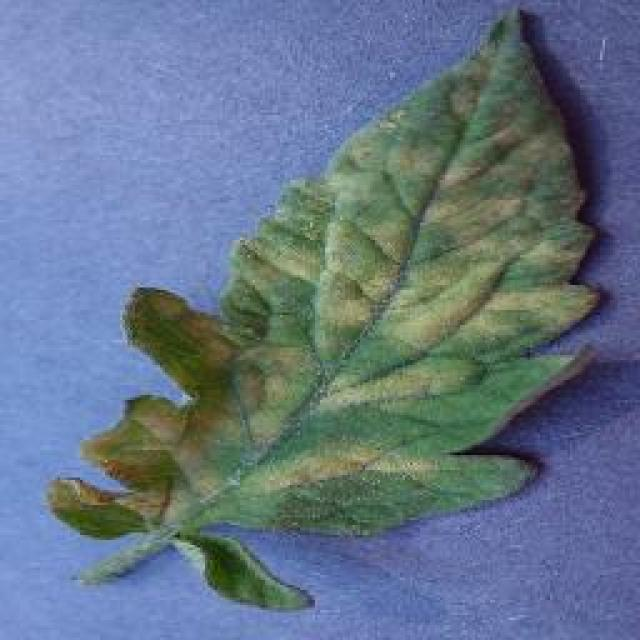Tomato mold leaf: (46, 0, 608, 535)
